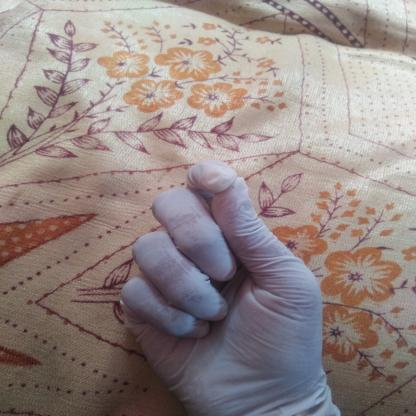gloved_hand: (107, 159, 344, 416)
